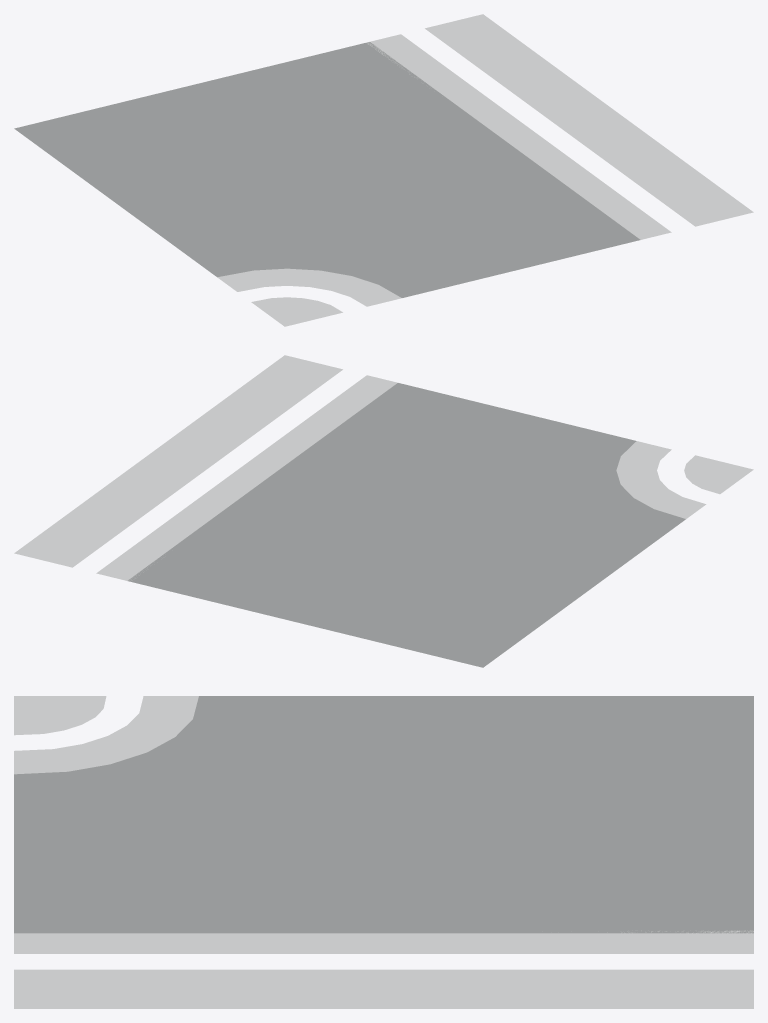
File: Ceiling_type_A_011_002.glb
3 renders of one model, top to bottom at view 1: azimuth 30°, elevation 25°; view 2: azimuth 150°, elevation 25°; view 3: azimuth 270°, elevation 25°, orthographic. The views are drawn at different scales.
Parts seen in each view (by area): view 1: Ceiling_type_A_011.002; view 2: Ceiling_type_A_011.002; view 3: Ceiling_type_A_011.002.
Boxes of the visible parts, x1,y1,x2,y2 form: Ceiling_type_A_011.002: [14, 14, 753, 326]; Ceiling_type_A_011.002: [14, 355, 753, 667]; Ceiling_type_A_011.002: [14, 696, 753, 1008].
Bounding box in the file's own units: 4 × 0.0571 × 4.
2 materials, 2 textured.
